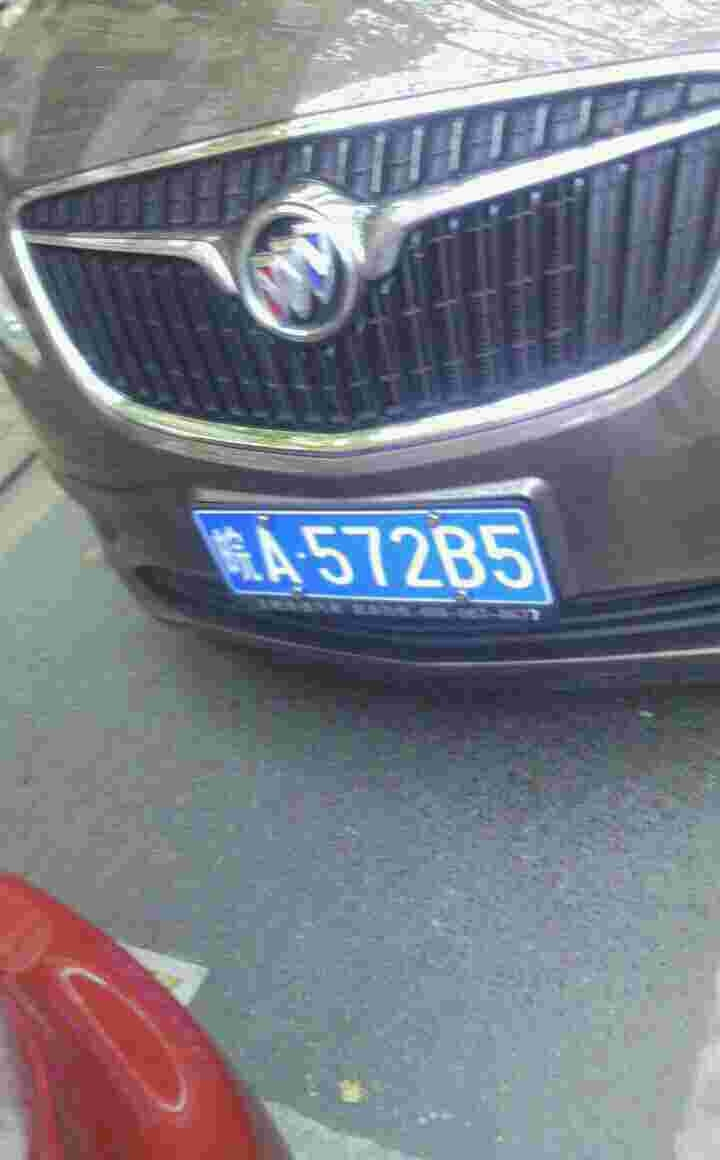license_plate: (188, 505, 553, 598)
